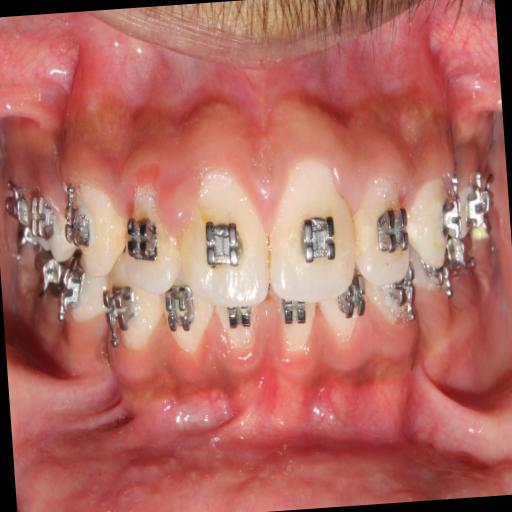correct_brace: (200, 206, 250, 284), (292, 200, 342, 272), (371, 202, 410, 262), (124, 208, 162, 265), (64, 197, 96, 256)
incorrect_brace: (118, 190, 181, 294), (352, 178, 410, 280)
